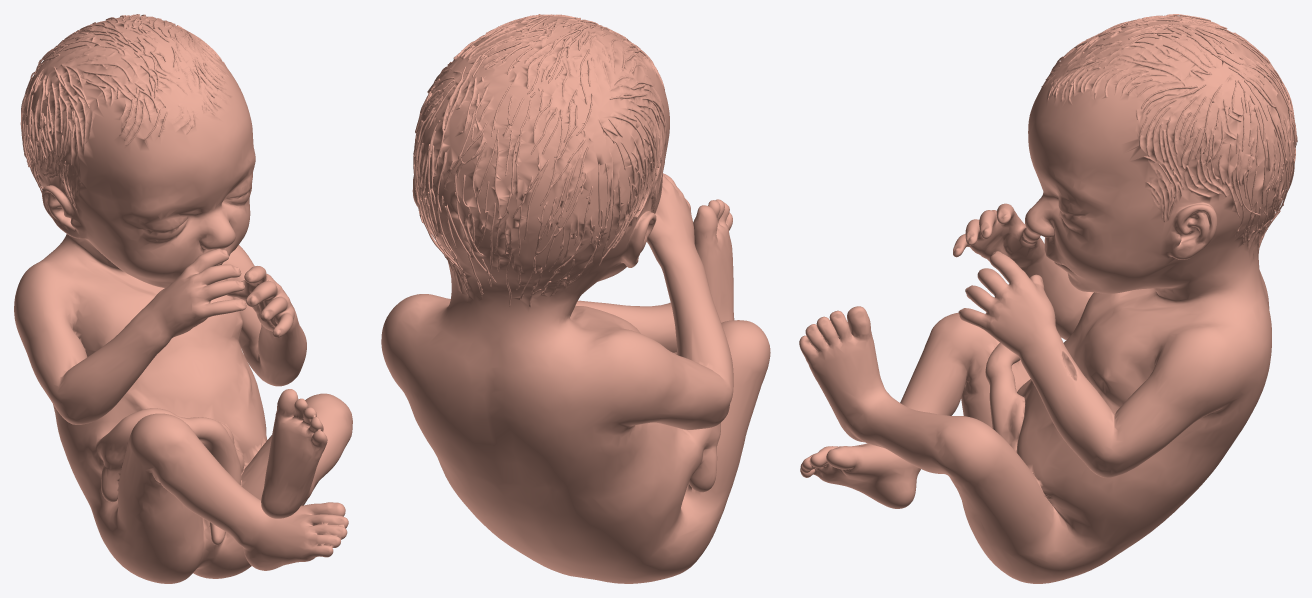
Rendered from semaine-26.glb.
3 views of the same model, side by side, from view 1: azimuth 30°, elevation 25°; view 2: azimuth 150°, elevation 25°; view 3: azimuth 270°, elevation 25° (orthographic). The views are drawn at different scales.
Size of the model in its own units: 1.02 by 1.9 by 1.59.
